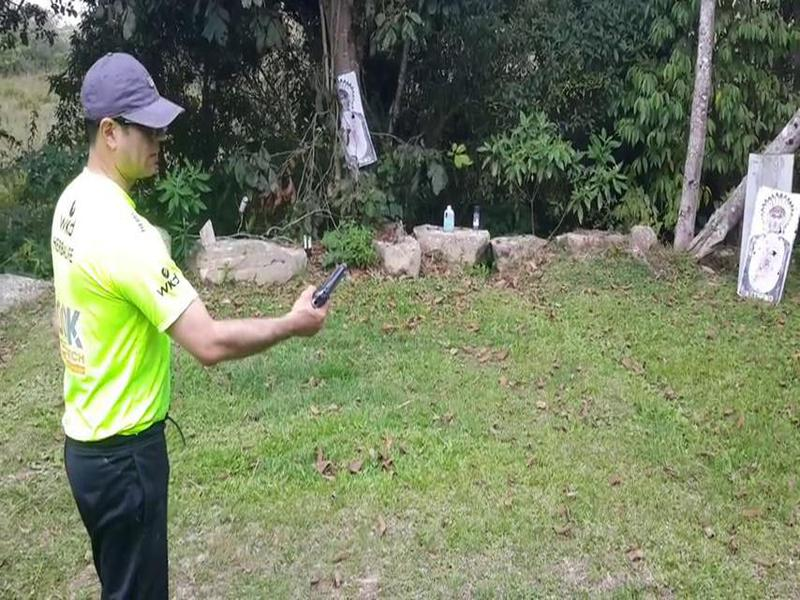Pistola: (302, 252, 364, 318)
